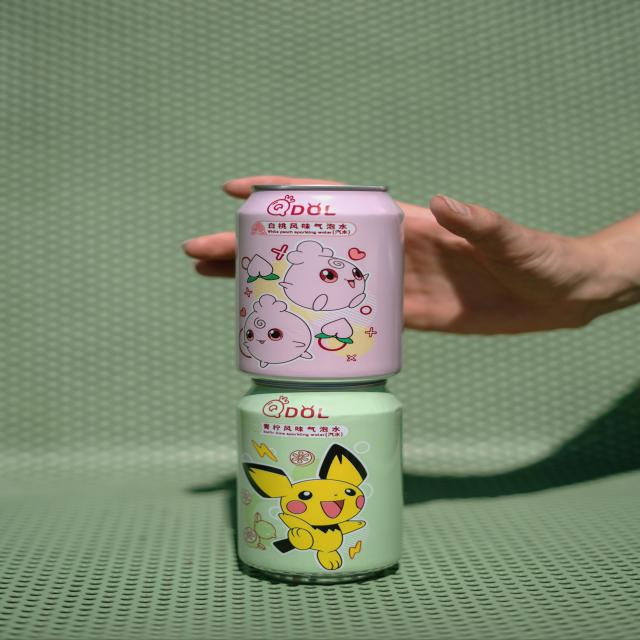can: (234, 377, 406, 586), (237, 184, 404, 386)
